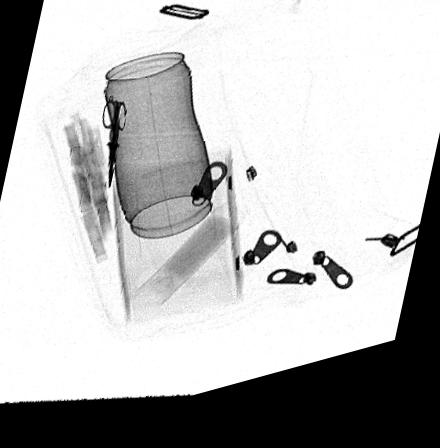Scissors: (100, 104, 128, 195)
